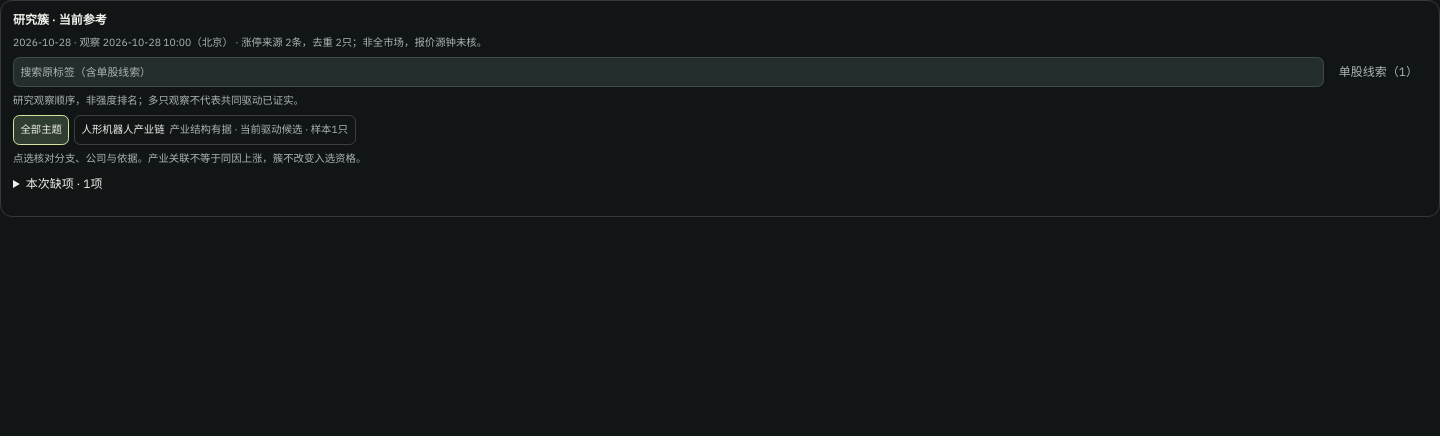
catalog ambiguity stays visible in the branch instead of becoming absent official identity
Click the button "人形机器人产业链".
click(215, 130)  # box top-left (74, 115), bottom-right (356, 145)
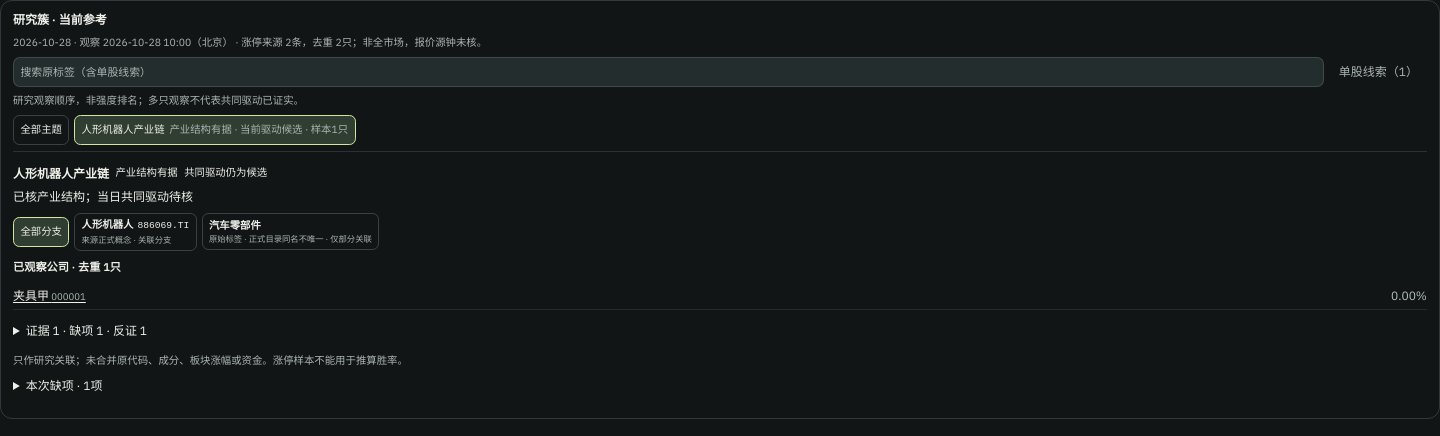
Now the text "原始标签 · 正式目录同名不唯一 · 仅部分关联" is shown, box top-left (209, 233), bottom-right (372, 246)
